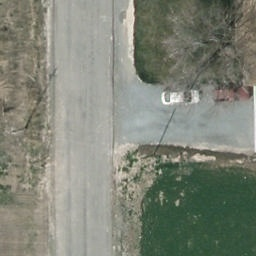car: (160, 88, 201, 105)
